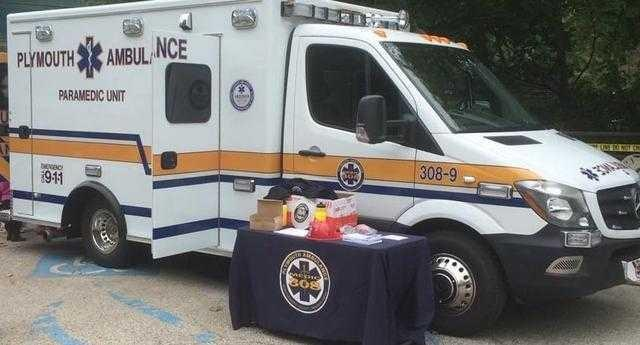car: (1, 0, 638, 336)
